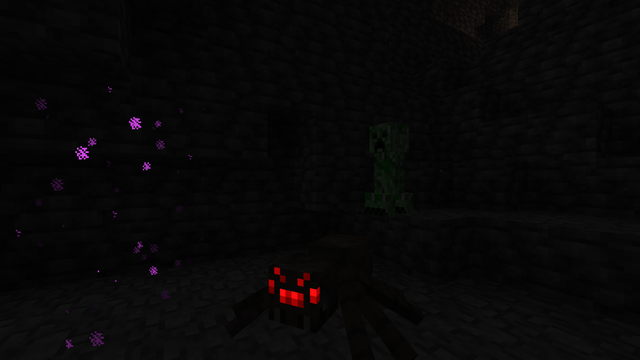araignees: (246, 227, 416, 350)
creepers: (365, 116, 412, 215)
